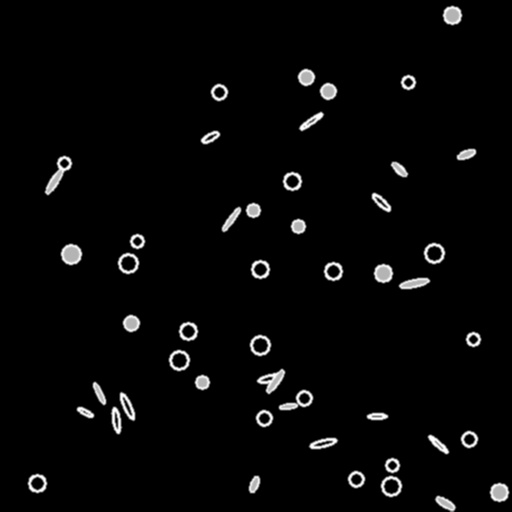pseudomonas: (43, 167, 65, 195), (220, 206, 242, 232), (118, 392, 136, 420), (265, 369, 285, 393), (299, 111, 323, 131), (427, 434, 449, 454), (370, 192, 392, 212), (399, 277, 429, 289), (309, 437, 337, 449), (390, 160, 408, 178), (435, 495, 455, 511), (92, 382, 106, 404), (258, 372, 282, 384), (200, 130, 220, 144), (456, 147, 476, 161), (111, 407, 121, 433), (248, 475, 260, 493), (77, 406, 93, 418), (279, 402, 297, 410), (367, 413, 387, 419)
synechocystis: (119, 254, 137, 272), (425, 244, 443, 262), (62, 245, 80, 263), (170, 351, 188, 369), (382, 477, 400, 495), (251, 336, 269, 354), (180, 323, 196, 339), (284, 173, 300, 189), (375, 265, 391, 281), (325, 263, 341, 279), (491, 484, 507, 500), (29, 475, 45, 491), (252, 261, 268, 277), (444, 7, 460, 23), (257, 411, 271, 425), (462, 432, 476, 446), (349, 472, 363, 486), (297, 391, 311, 405), (299, 70, 313, 84), (212, 85, 226, 99), (124, 316, 138, 330), (321, 84, 335, 98), (467, 333, 479, 345), (386, 459, 398, 471), (402, 76, 414, 88), (58, 157, 70, 169), (292, 220, 304, 232), (131, 235, 143, 247), (196, 376, 208, 388), (247, 204, 259, 216)
